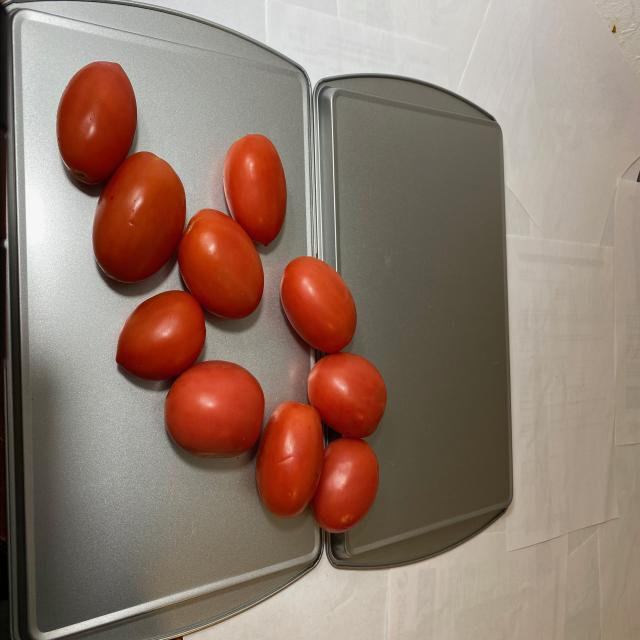tomato: (56, 54, 392, 538)
